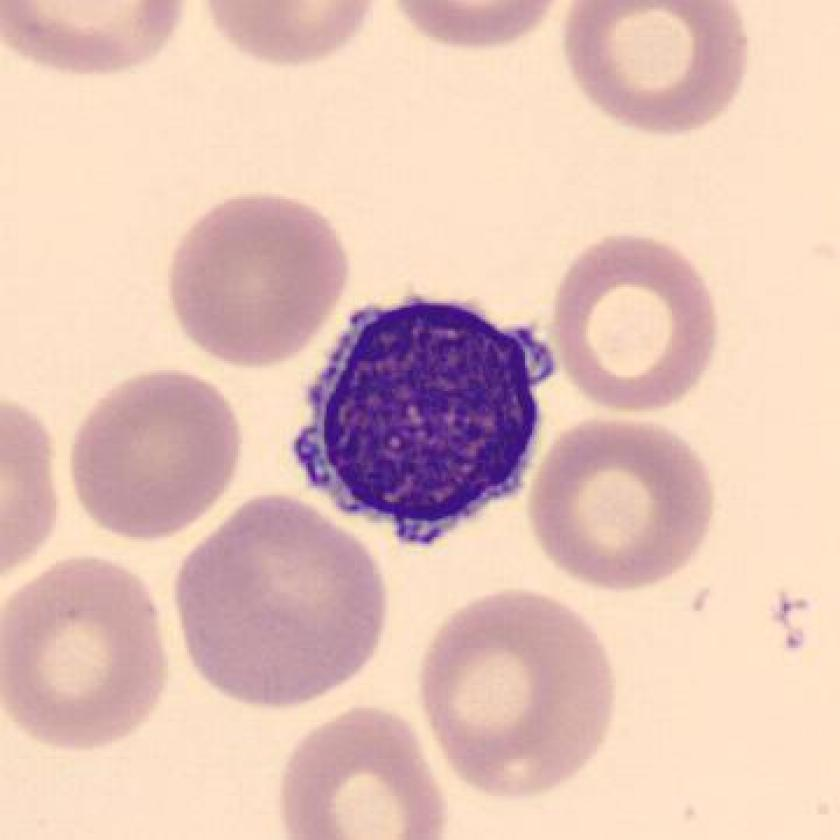lymphocyte: (277, 286, 585, 566)
